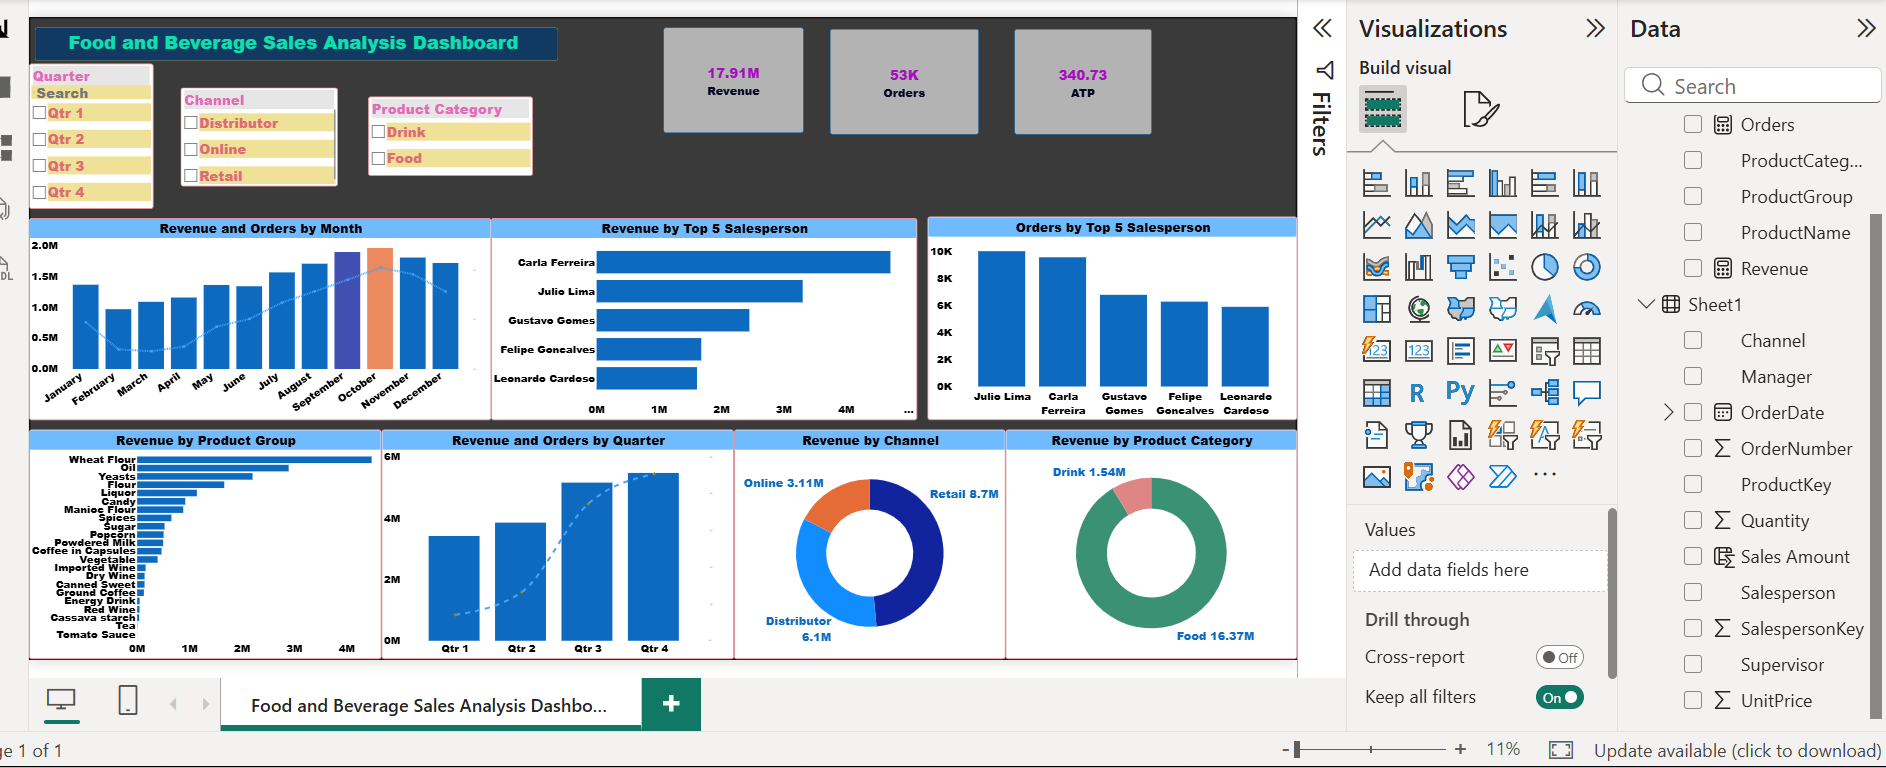

What the dashboard file says about the page in this screenshot:
{"tool":"powerbi","page":{"name":"Food and Beverage Sales Analysis Dashboard ","canvas":[7500,3800],"ordinal":0},"visuals":[{"type":"card","fields":{"Values":["Product.Revenue"]},"box":[3751.7,59.8,829,623.9],"z":0},{"type":"card","fields":{"Values":["Product.Orders"]},"box":[4734.4,68.4,880.2,623.9],"z":1000},{"type":"card","fields":{"Values":["Product.ATP"]},"box":[5828.3,68.4,811.9,623.9],"z":2000},{"type":"donutChart","fields":{"Y":["Product.Revenue"],"Category":["Sheet1.Channel"]},"box":[4170.4,2444.1,1606.6,1358.8],"z":3000},{"type":"pieChart","title":"Revenue by Product Category","fields":{"Y":["Product.Revenue"],"Category":["Product.ProductCategory"]},"box":[5777,2444.1,1726.3,1358.8],"z":4000},{"type":"lineStackedColumnComboChart","fields":{"Y":["Product.Revenue"],"Category":["Sheet1.OrderDate.Variation.Date Hierarchy.Month"],"Y2":["Product.Orders"]},"box":[0,1187.9,2734.7,1196.4],"z":5000},{"type":"lineStackedColumnComboChart","fields":{"Y":["Product.Revenue"],"Y2":["Product.Orders"],"Category":["Sheet1.OrderDate.Variation.Date Hierarchy.Quarter"]},"box":[2085.2,2444.1,2085.2,1358.8],"z":6000},{"type":"barChart","title":"Revenue by Product Group","fields":{"Y":["Product.Revenue"],"Category":["Product.ProductGroup"]},"box":[0,2444.1,2085.2,1358.8],"z":7000},{"type":"barChart","title":"Revenue by Top 5 Salesperson","fields":{"Category":["Sheet1.Salesperson"],"Y":["Product.Revenue"]},"box":[2734.7,1187.9,2521,1196.4],"z":8000},{"type":"columnChart","title":"Orders by Top 5 Salesperson","fields":{"Y":["Product.Orders"],"Category":["Sheet1.Salesperson"]},"box":[5315.6,1179.3,2187.8,1205],"z":9000},{"type":"slicer","fields":{"Values":["Sheet1.OrderDate.Variation.Date Hierarchy.Quarter"]},"box":[0,275,736.4,860.6],"z":10000},{"type":"slicer","fields":{"Values":["Product.ProductCategory"]},"box":[2005.1,470.2,976,470.2],"z":11000},{"type":"slicer","fields":{"Values":["Sheet1.Channel"]},"box":[896.1,417,931.6,585.6],"z":12000},{"type":"textbox","box":[39.4,63,3093.4,196.8],"z":14000}]}

Visuals, with their boxes on the page's 7500x3800 design canvas (x1, y1, x2, y2). These are canvas units, not pixel positions in the 1886x768 screenshot, which may show the page scaled, cropped or inside an application window:
card - Product.Revenue: 3752,60,4581,684
card - Product.Orders: 4734,68,5615,692
card - Product.ATP: 5828,68,6640,692
donutChart - Product.Revenue x Sheet1.Channel: 4170,2444,5777,3803
"Revenue by Product Category" pieChart: 5777,2444,7503,3803
lineStackedColumnComboChart - Product.Revenue x Sheet1.OrderDate.Variation.Date Hierarchy.Month: 0,1188,2735,2384
lineStackedColumnComboChart - Product.Revenue x Product.Orders: 2085,2444,4170,3803
"Revenue by Product Group" barChart: 0,2444,2085,3803
"Revenue by Top 5 Salesperson" barChart: 2735,1188,5256,2384
"Orders by Top 5 Salesperson" columnChart: 5316,1179,7503,2384
slicer - Sheet1.OrderDate.Variation.Date Hierarchy.Quarter: 0,275,736,1136
slicer - Product.ProductCategory: 2005,470,2981,940
slicer - Sheet1.Channel: 896,417,1828,1003
textbox: 39,63,3133,260
